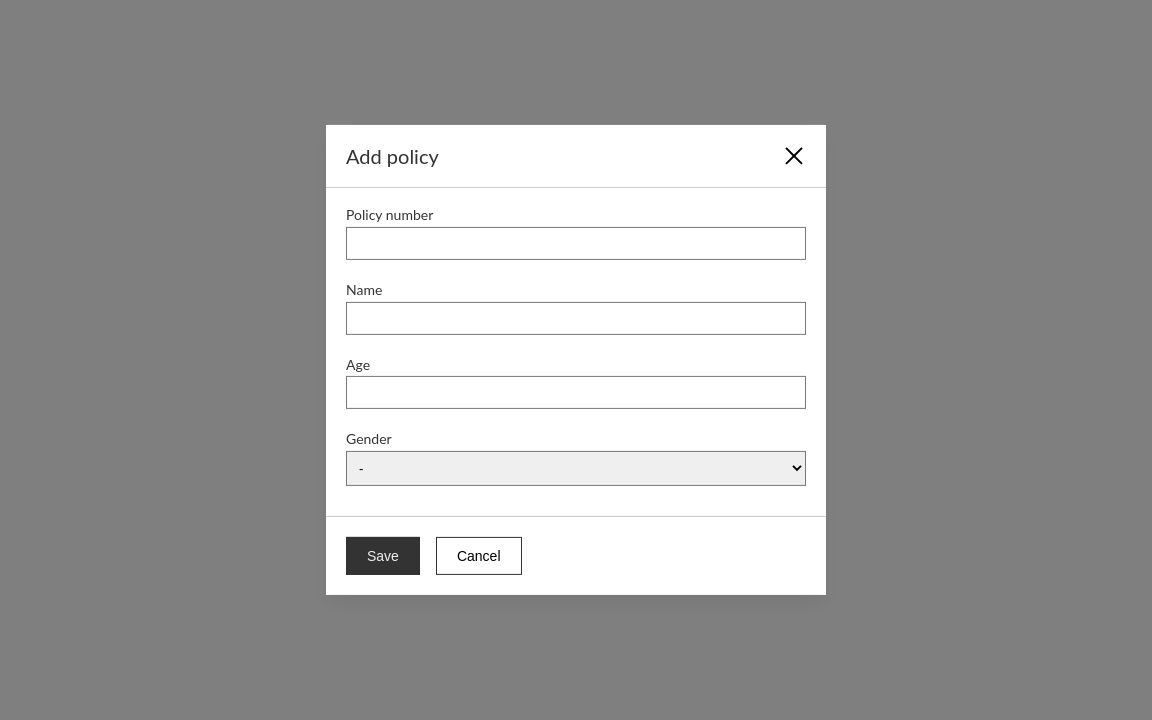
Test: Policy form validation tests › when policy number is not a number, shows relevant error
Type "abc" into the field labelled "Policy number" at (576, 243), box [346,227,806,260]
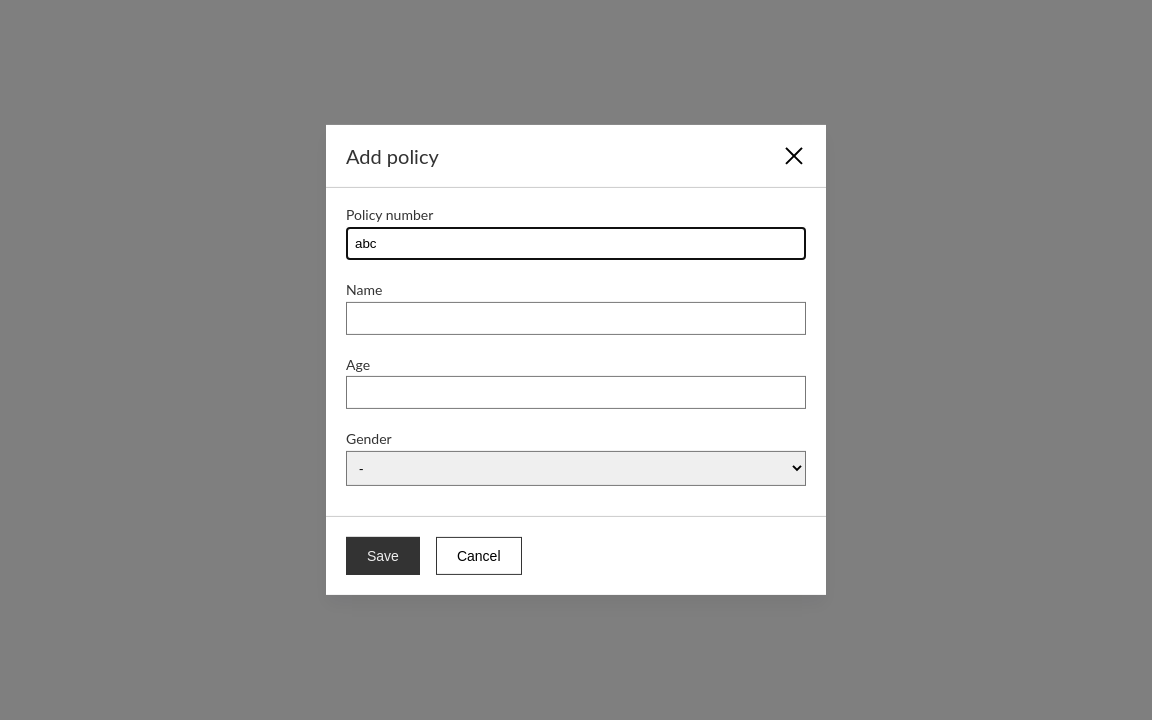
Click the button "Save" at (383, 556), box [346,537,420,575]
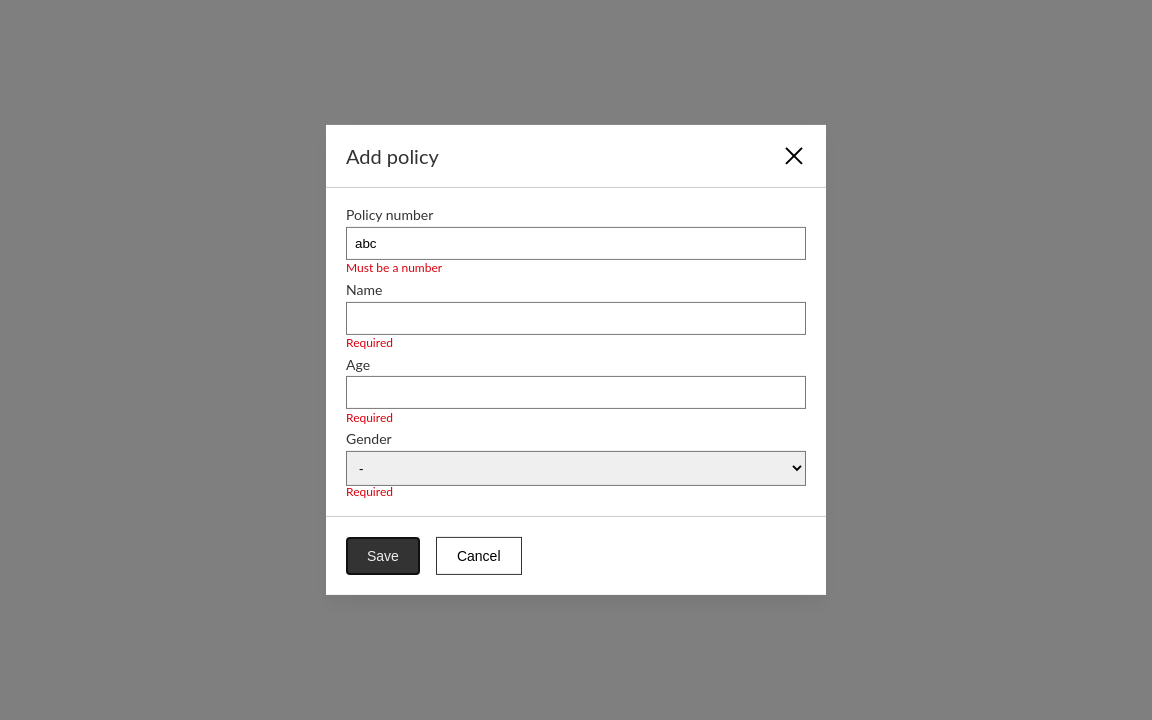
Now the text "Must be a number" is shown, box [346,258,442,278]
